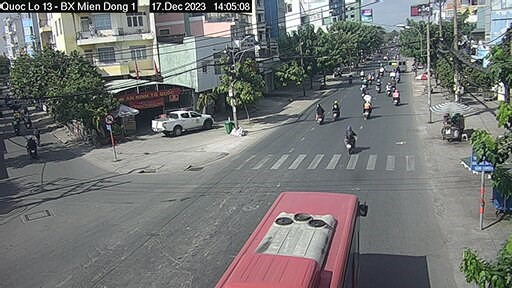bus: (239, 189, 368, 288)
car: (149, 108, 216, 137)
motorbike: (342, 124, 357, 156), (23, 135, 39, 159), (329, 98, 343, 121), (359, 99, 373, 121), (314, 101, 326, 125), (390, 88, 402, 109)
